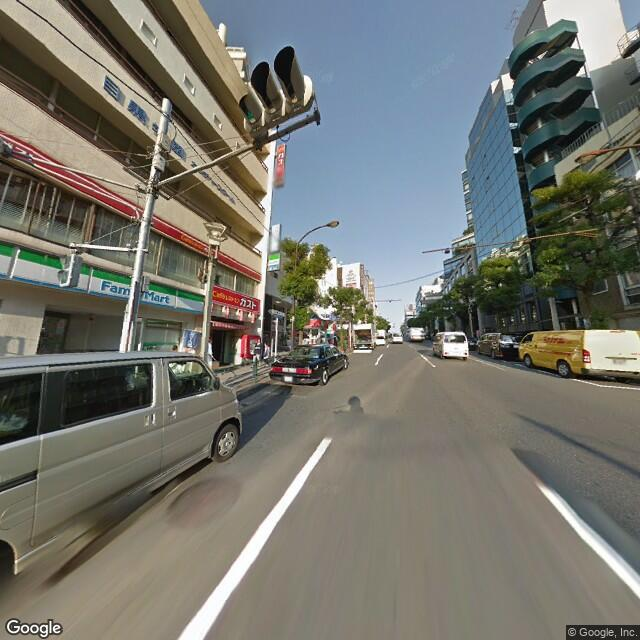family_mart: (1, 240, 207, 316)
